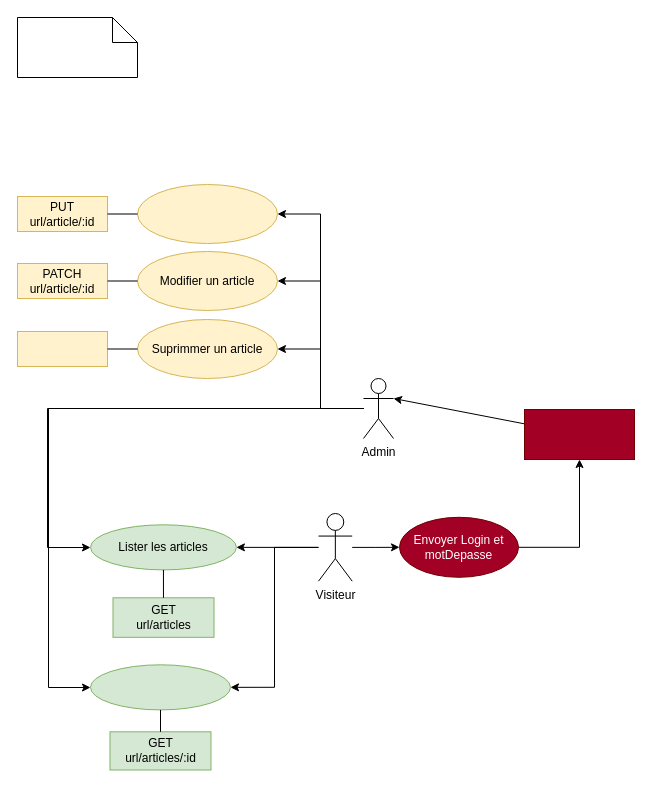
Image size: 652x788. Some labels were removed from this diagram. Here are the shapes that lost their labels. From the top down, the centre of each, then its label:
the point at 77,47: url : API url
the point at 207,214: Creer un nouvel article
the point at 62,348: DELETE url/article/:id
the point at 579,434: Post url/login
the point at 160,687: Afficher un article
